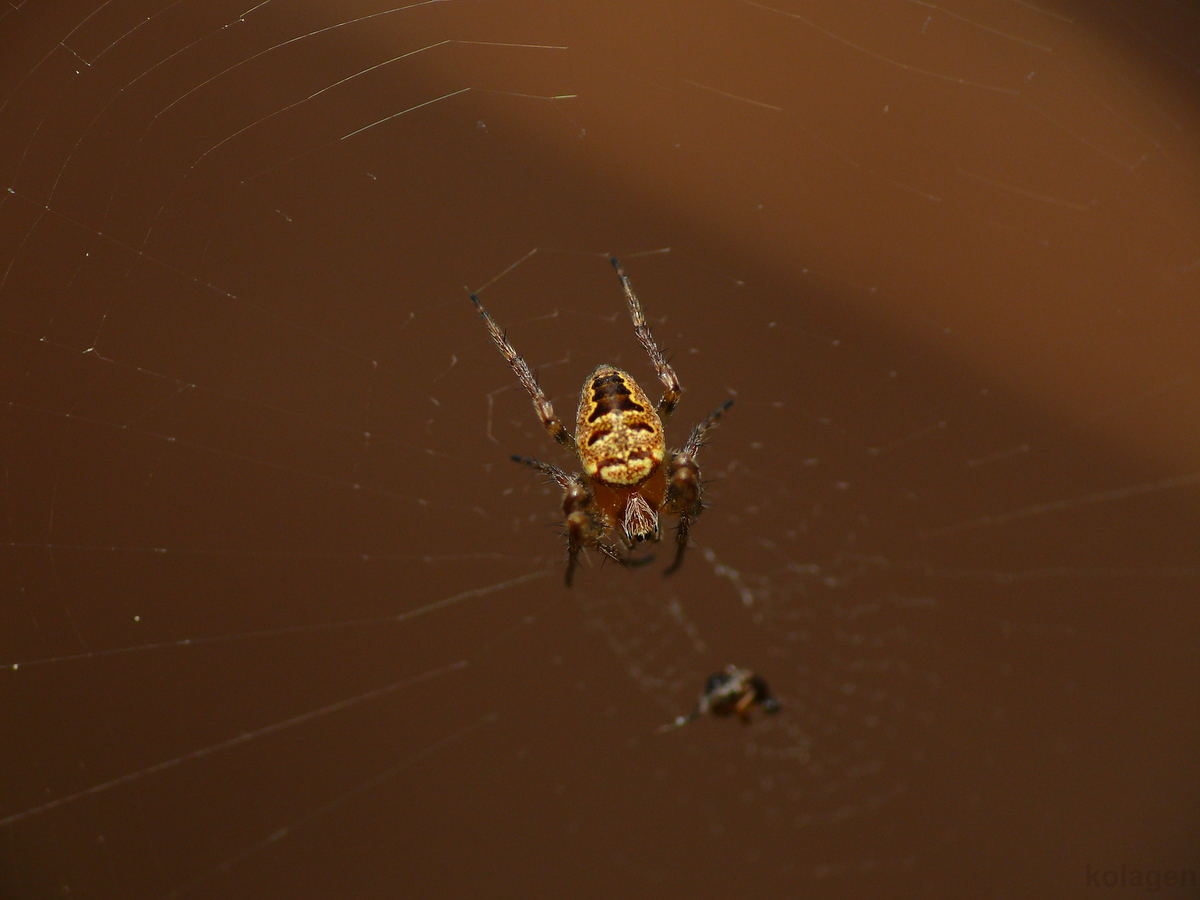spider: (464, 221, 747, 613)
